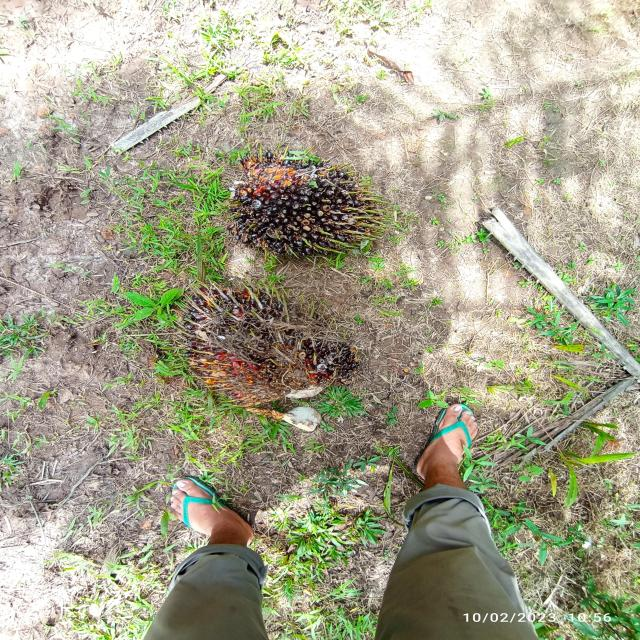fraksi 00: (166, 278, 357, 415), (214, 153, 378, 265)
